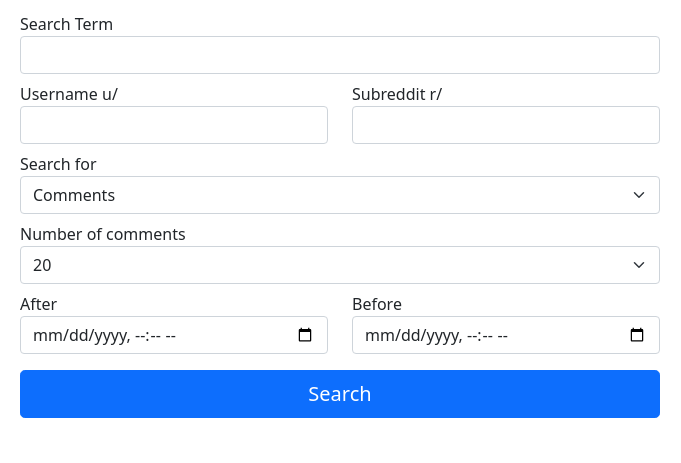
Test: Search Form › username with less than 3 characters fails
The image size is (681, 463).
Type "aa" into the field named "username".
click(174, 125); type("aa")  # box [20,106,328,144]
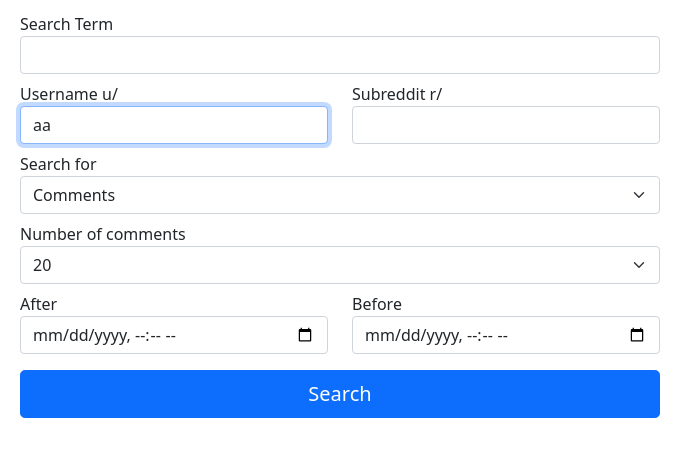
Click the button "Search".
click(340, 394)  # box [20,370,660,418]
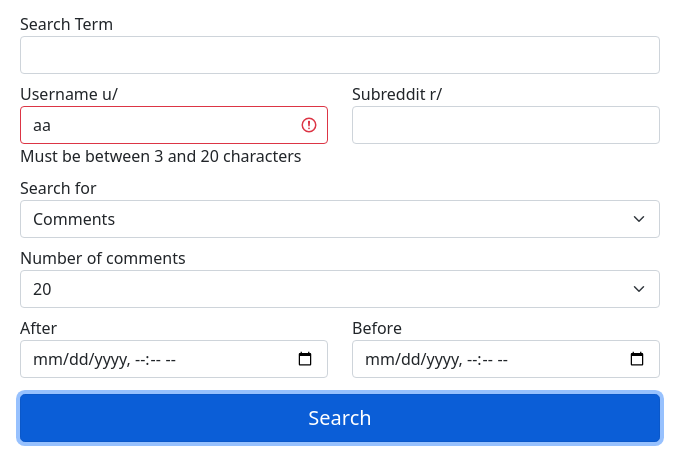
Check: the text "Username u/ Must be between 3 and 20 characters" is shown, box [20,82,328,168]
